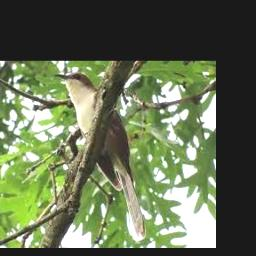Cuckoo: (54, 73, 147, 238)
